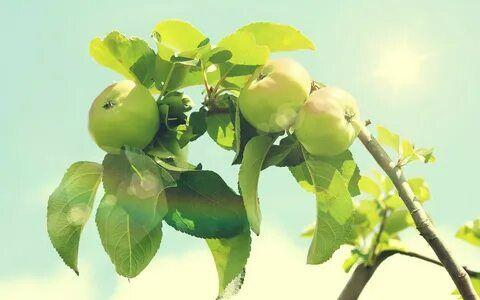Apple: (88, 82, 160, 153), (239, 61, 312, 131), (295, 88, 361, 159)
